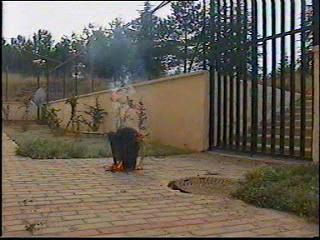fire: (111, 161, 125, 171), (129, 106, 141, 116), (109, 91, 120, 101), (136, 131, 144, 138)
